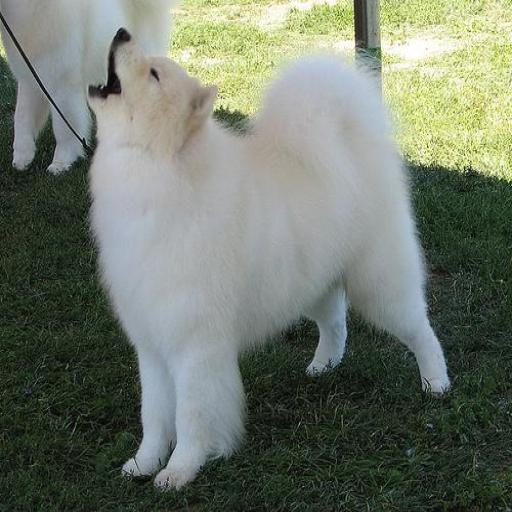dog_face: (85, 26, 216, 151)
